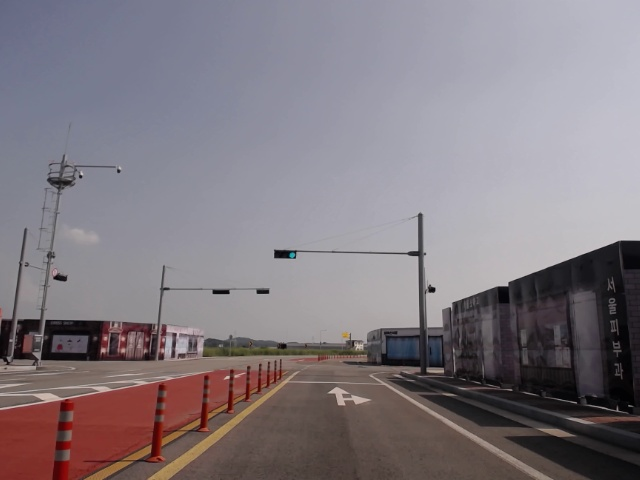green_3: (274, 249, 297, 259)
